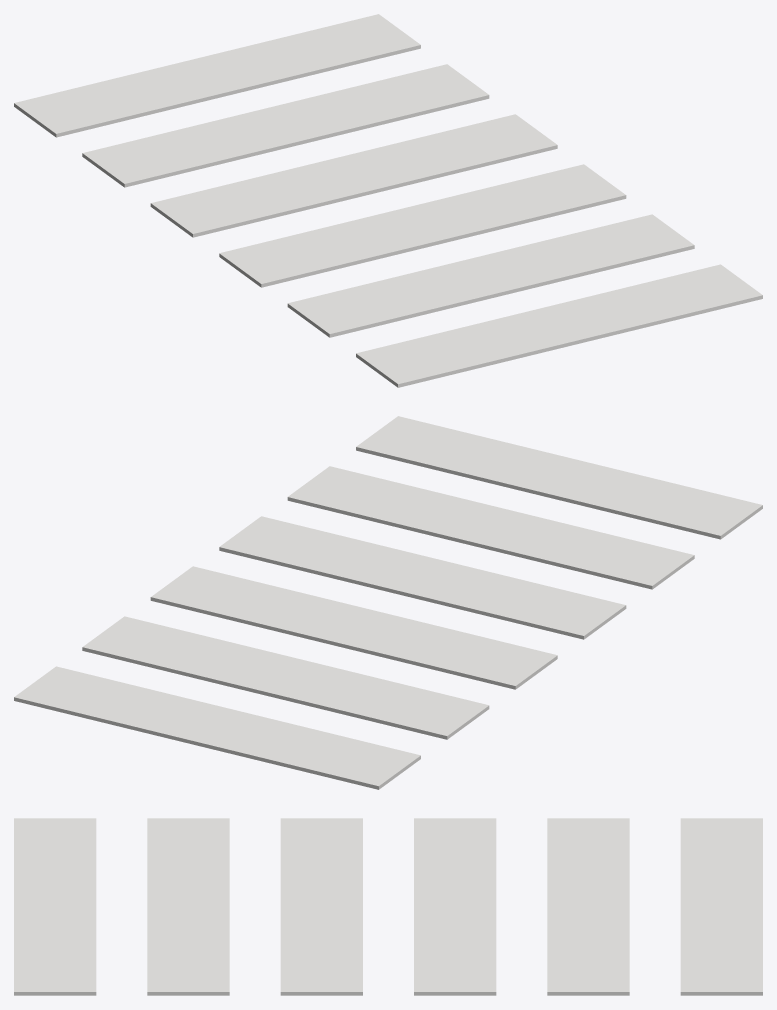
The model's file is SM_pedestrian_crossing.fbx.
3 views of the same model, one above another, from view 1: azimuth 30°, elevation 25°; view 2: azimuth 150°, elevation 25°; view 3: azimuth 270°, elevation 25° (orthographic). The views are drawn at different scales.
Parts seen in each view (by area): view 1: Box208; view 2: Box208; view 3: Box208.
Boxes of the visible parts, x1,y1,x2,y2 form: Box208: (14, 14, 762, 387); Box208: (14, 416, 762, 789); Box208: (14, 818, 762, 995).
Bounding box in the file's own units: 113 × 206 × 1.08.
